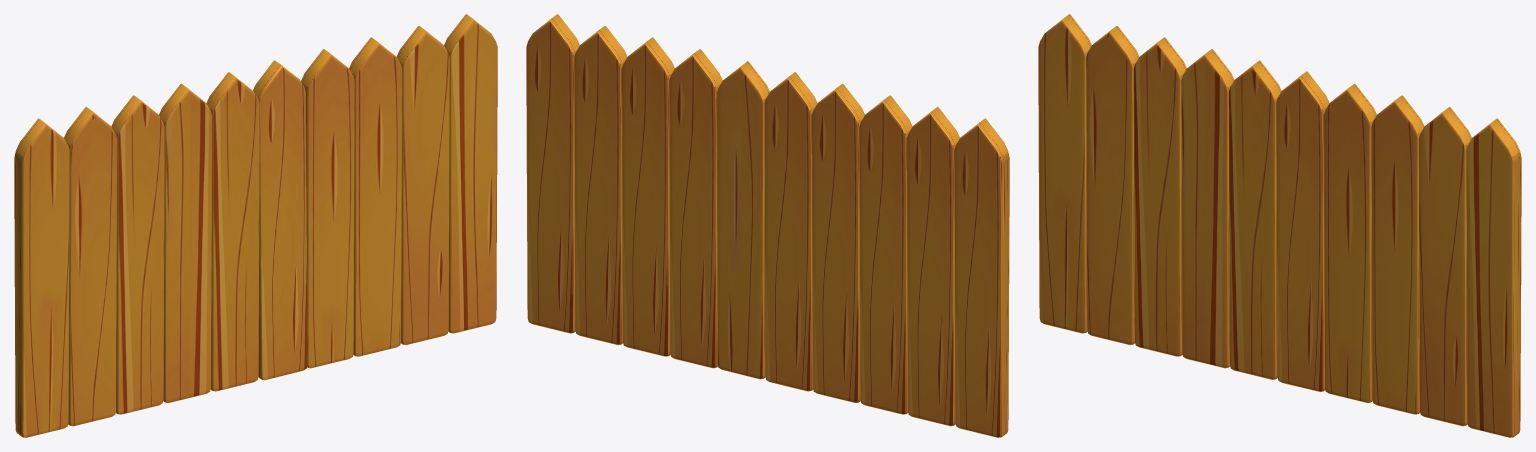
File: Coincraft_Fence_01.fbx
The picture shows the model from 3 angles, left to right: view 1: azimuth 30°, elevation 25°; view 2: azimuth 150°, elevation 25°; view 3: azimuth 330°, elevation 25°; orthographic projection.
Parts seen in each view (by area): view 1: Fence_01; view 2: Fence_01; view 3: Fence_01.
Part boxes in pixels (left/top/right/bottom): Fence_01: left=14, top=14, right=497, bottom=437; Fence_01: left=526, top=14, right=1009, bottom=437; Fence_01: left=1038, top=14, right=1521, bottom=437.
Bounding box in the file's own units: 202 × 126 × 7.51.
